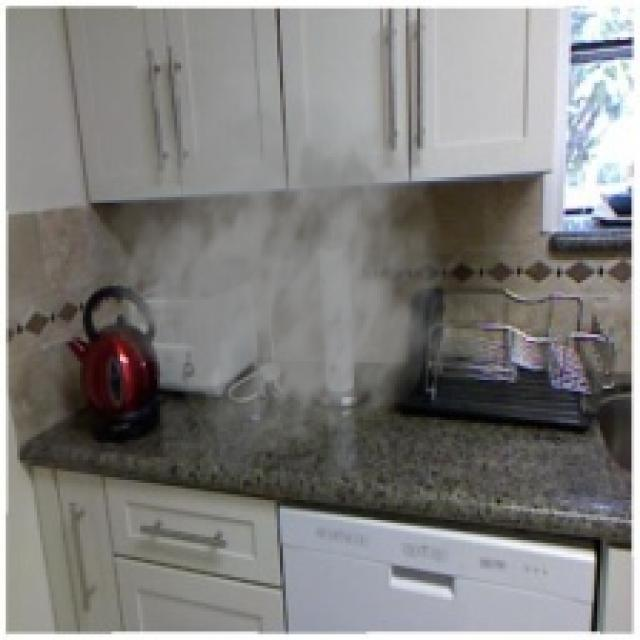Smoke: (86, 60, 457, 457)
